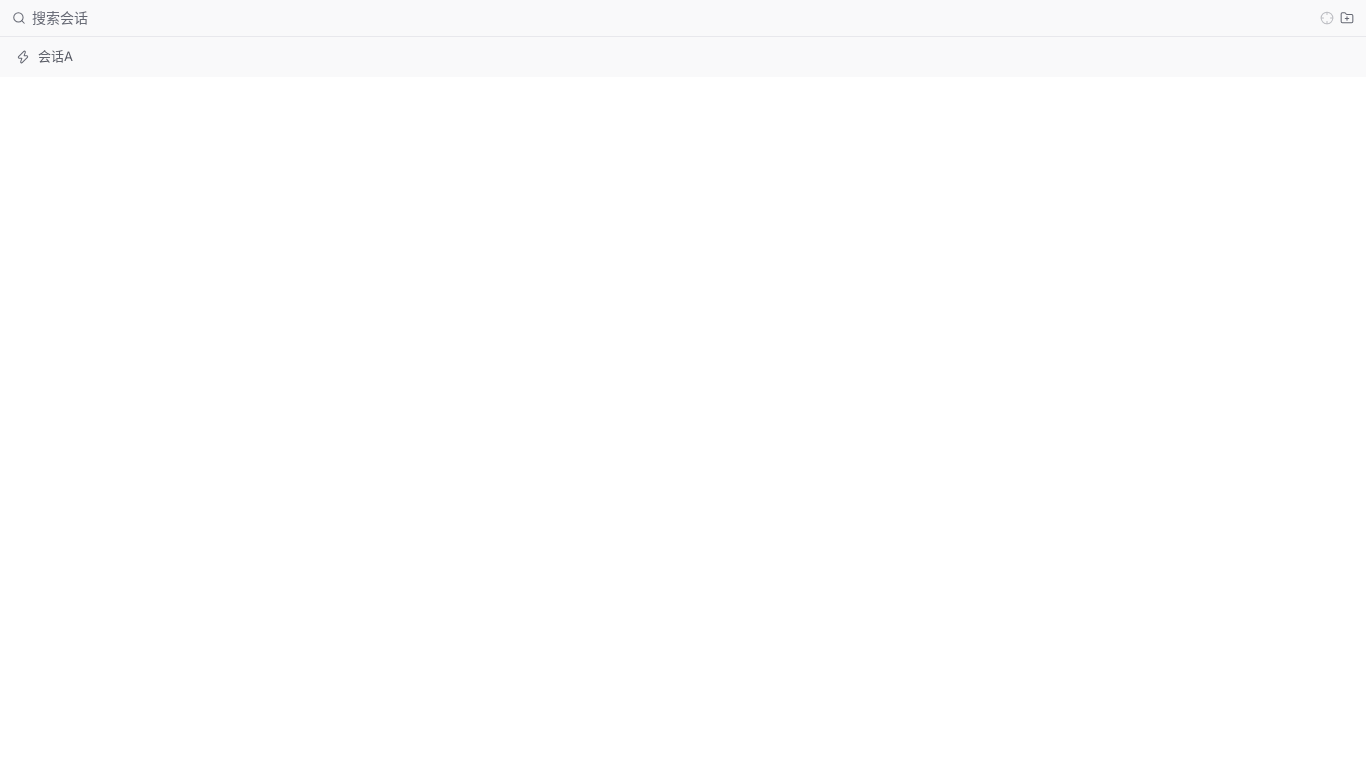
Scenario: RoomList — 解散会话确认（D10：原生 confirm → ConfirmDialog） › 确认「解散」→ 调 ipc.session.delete + 刷新列表
Right-click the button "会话A": point(55, 56) [6,39,1360,75]
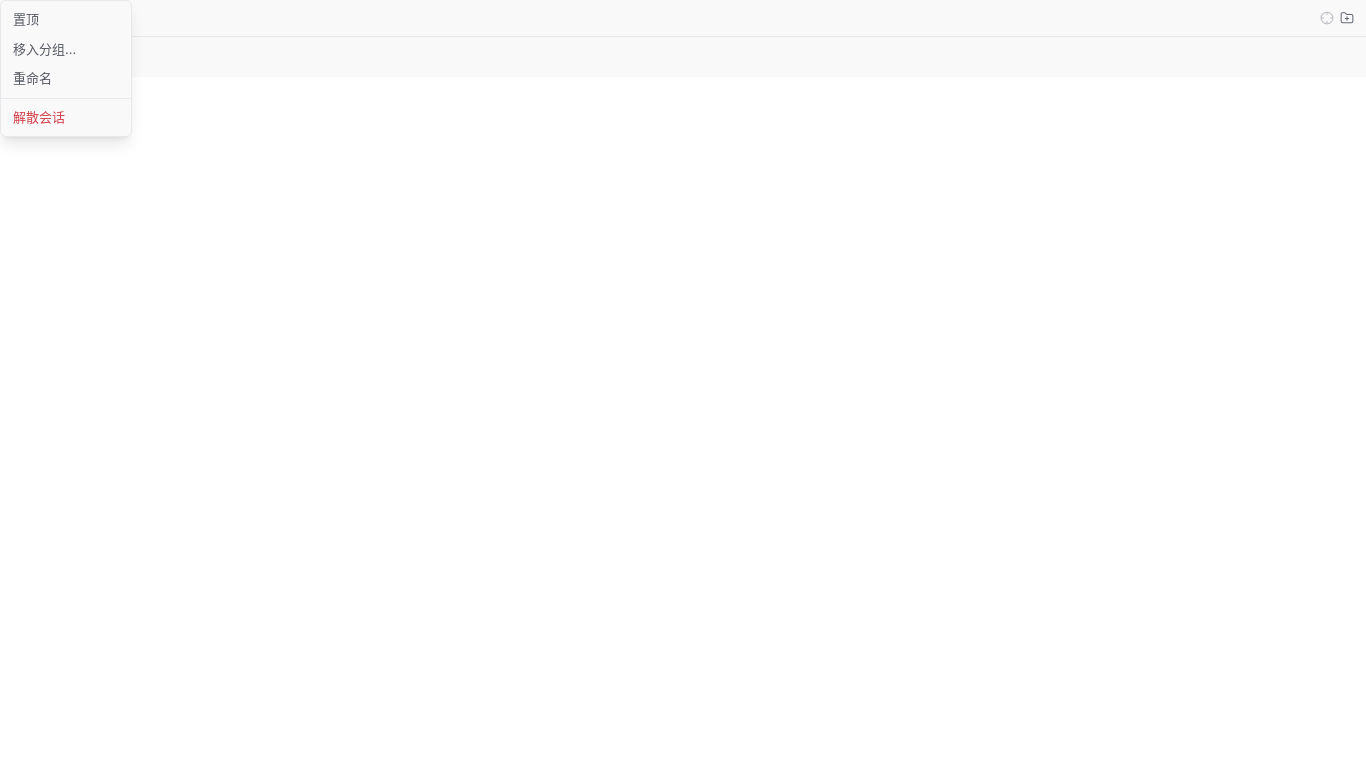
Click the button "解散会话": point(66, 117) [1,102,131,132]
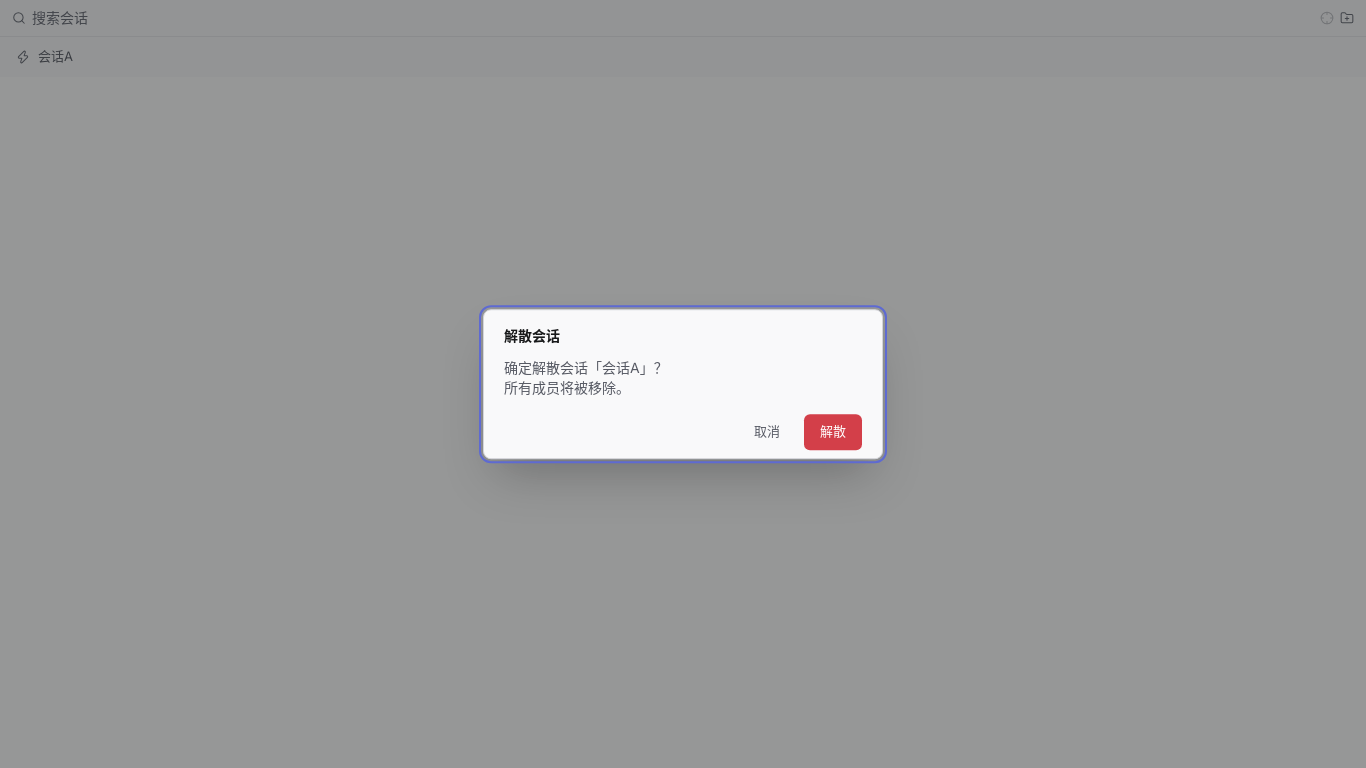
Click the button "解散": point(833, 432) [804,414,862,450]
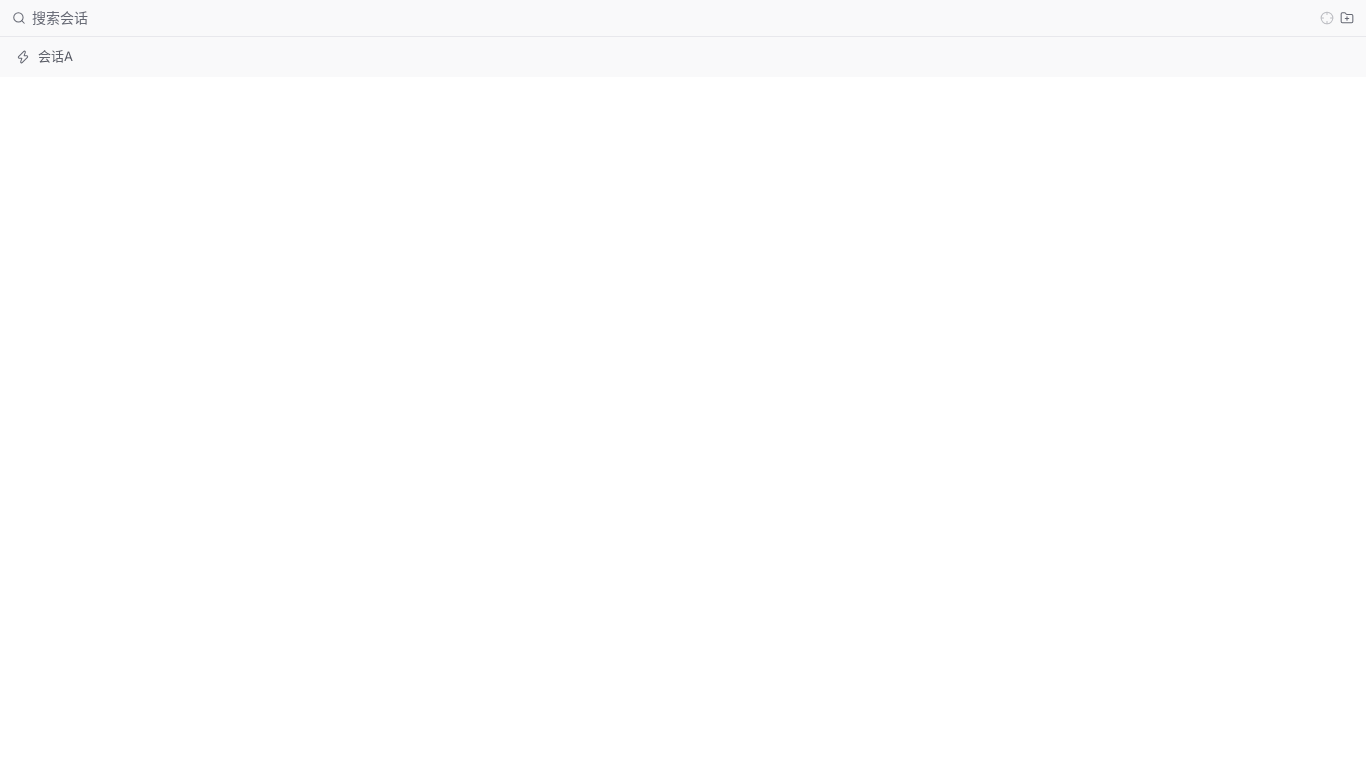
Now the heading "解散会话" is gone
